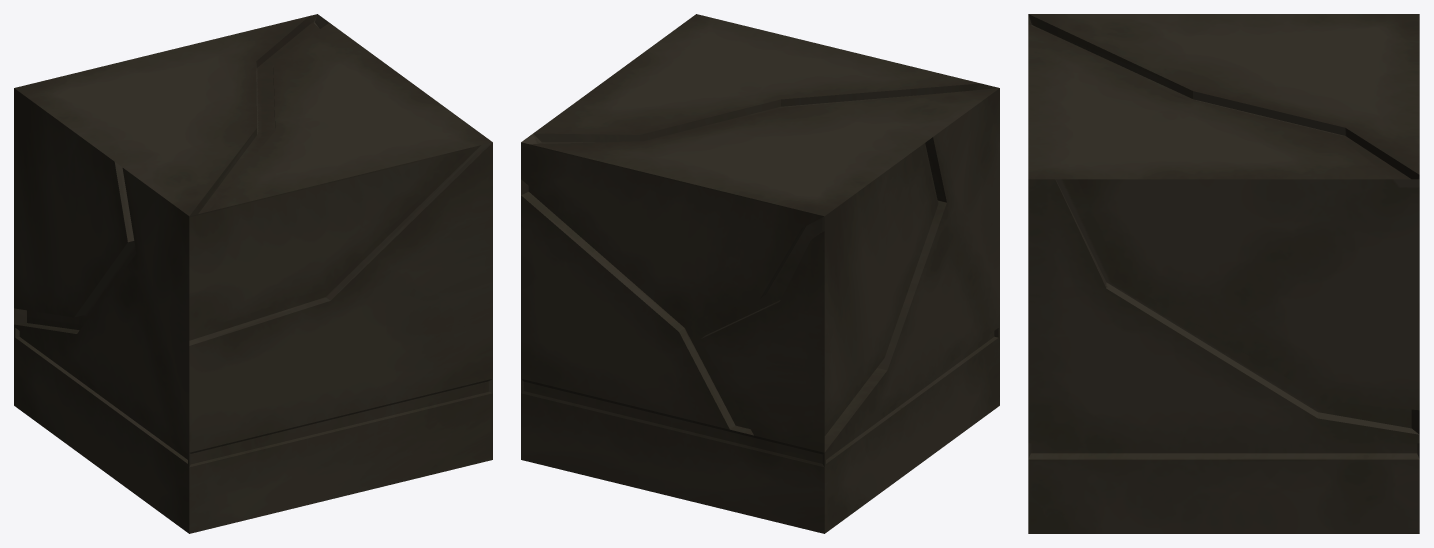
File: DarkWall.fbx
3 renders of one model, left to right at view 1: azimuth 30°, elevation 25°; view 2: azimuth 150°, elevation 25°; view 3: azimuth 270°, elevation 25°, orthographic. The views are drawn at different scales.
Visible parts, largest first — view 1: NewNormalWall; view 2: NewNormalWall; view 3: NewNormalWall.
Boxes of the visible parts, bbox=[...] form: NewNormalWall: bbox=[14, 14, 492, 533]; NewNormalWall: bbox=[521, 14, 999, 533]; NewNormalWall: bbox=[1028, 14, 1419, 533].
Bounding box in the file's own units: 98.03 × 98.03 × 98.03.
